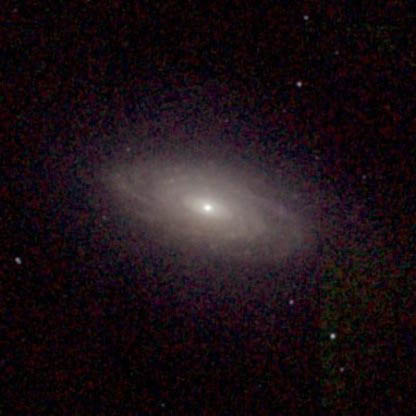NGC 3521: (12, 58, 367, 349)
